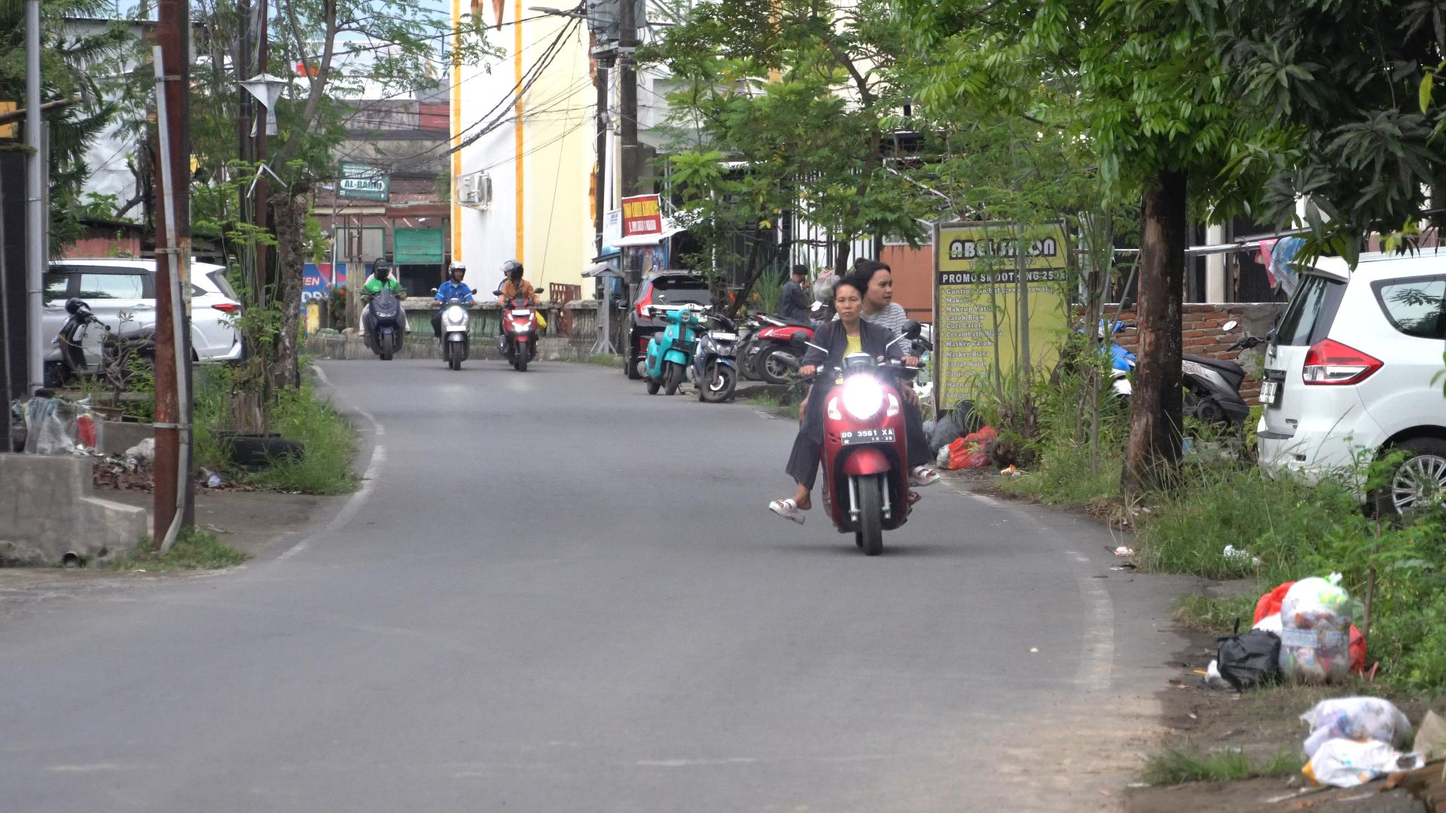number-plate: (834, 428, 894, 444)
